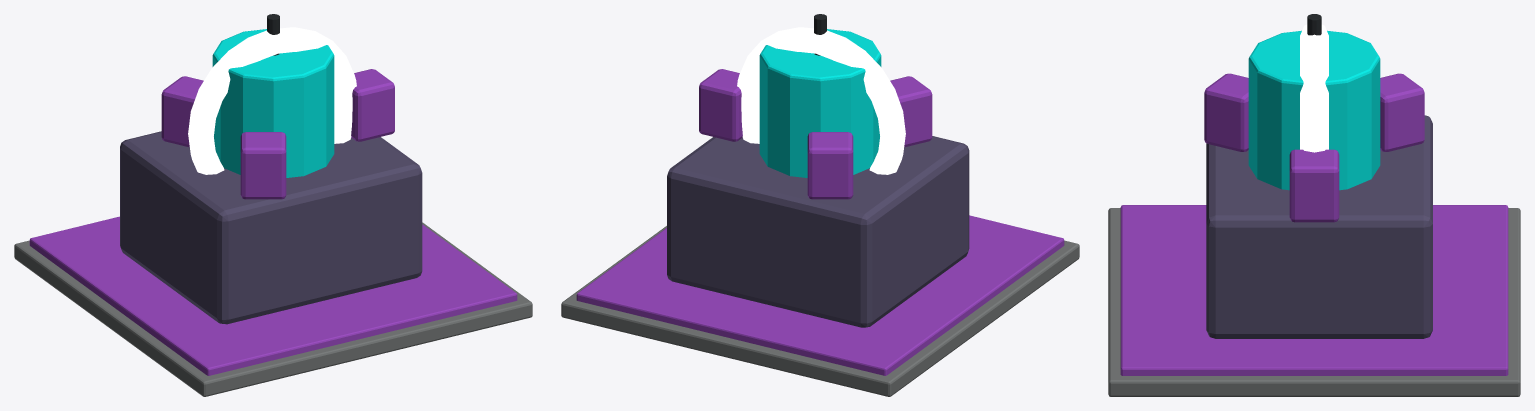
File: SM_Chronolegion_CH_ConYard.fbx
The picture shows the model from 3 angles, left to right: view 1: azimuth 30°, elevation 25°; view 2: azimuth 150°, elevation 25°; view 3: azimuth 270°, elevation 25°; orthographic projection. The views are drawn at different scales.
Parts seen in each view (by area): view 1: SM_Chronolegion_CH_ConYard_MainMass, SM_Chronolegion_CH_ConYard_FoundationTrim, SM_Chronolegion_CH_ConYard_CommandCore, SM_Chronolegion_CH_ConYard, SM_Chronolegion_CH_ConYard_ChronoRing, SM_Chronolegion_CH_ConYard_FloatingNode_2, SM_Chronolegion_CH_ConYard_FloatingNode_0, SM_Chronolegion_CH_ConYard_FloatingNode_1; view 2: SM_Chronolegion_CH_ConYard_MainMass, SM_Chronolegion_CH_ConYard_FoundationTrim, SM_Chronolegion_CH_ConYard_CommandCore, SM_Chronolegion_CH_ConYard, SM_Chronolegion_CH_ConYard_ChronoRing, SM_Chronolegion_CH_ConYard_FloatingNode_1, SM_Chronolegion_CH_ConYard_FloatingNode_0, SM_Chronolegion_CH_ConYard_FloatingNode_2; view 3: SM_Chronolegion_CH_ConYard_MainMass, SM_Chronolegion_CH_ConYard_FoundationTrim, SM_Chronolegion_CH_ConYard_CommandCore, SM_Chronolegion_CH_ConYard, SM_Chronolegion_CH_ConYard_FloatingNode_0, SM_Chronolegion_CH_ConYard_ChronoRing, SM_Chronolegion_CH_ConYard_FloatingNode_1, SM_Chronolegion_CH_ConYard_FloatingNode_2.
Boxes of the visible parts, x1,y1,x2,y2 form: SM_Chronolegion_CH_ConYard_MainMass: [120, 131, 422, 324]; SM_Chronolegion_CH_ConYard_FoundationTrim: [29, 216, 517, 375]; SM_Chronolegion_CH_ConYard_CommandCore: [212, 29, 334, 177]; SM_Chronolegion_CH_ConYard: [14, 222, 532, 396]; SM_Chronolegion_CH_ConYard_ChronoRing: [188, 27, 356, 174]; SM_Chronolegion_CH_ConYard_FloatingNode_2: [240, 132, 286, 199]; SM_Chronolegion_CH_ConYard_FloatingNode_0: [351, 69, 394, 141]; SM_Chronolegion_CH_ConYard_FloatingNode_1: [161, 76, 203, 147]; SM_Chronolegion_CH_ConYard_MainMass: [667, 136, 969, 327]; SM_Chronolegion_CH_ConYard_FoundationTrim: [576, 215, 1064, 375]; SM_Chronolegion_CH_ConYard_CommandCore: [759, 29, 881, 177]; SM_Chronolegion_CH_ConYard: [561, 226, 1079, 396]; SM_Chronolegion_CH_ConYard_ChronoRing: [737, 27, 905, 174]; SM_Chronolegion_CH_ConYard_FloatingNode_1: [807, 132, 853, 199]; SM_Chronolegion_CH_ConYard_FloatingNode_0: [699, 69, 742, 141]; SM_Chronolegion_CH_ConYard_FloatingNode_2: [890, 76, 932, 147]; SM_Chronolegion_CH_ConYard_MainMass: [1206, 115, 1432, 338]; SM_Chronolegion_CH_ConYard_FoundationTrim: [1120, 205, 1508, 375]; SM_Chronolegion_CH_ConYard_CommandCore: [1248, 30, 1380, 190]; SM_Chronolegion_CH_ConYard: [1108, 208, 1520, 396]; SM_Chronolegion_CH_ConYard_FloatingNode_0: [1289, 149, 1339, 222]; SM_Chronolegion_CH_ConYard_ChronoRing: [1300, 24, 1328, 152]; SM_Chronolegion_CH_ConYard_FloatingNode_1: [1380, 73, 1424, 151]; SM_Chronolegion_CH_ConYard_FloatingNode_2: [1204, 73, 1248, 151].
Size of what is drawn, in the model's own units: 800 by 800 by 630.
